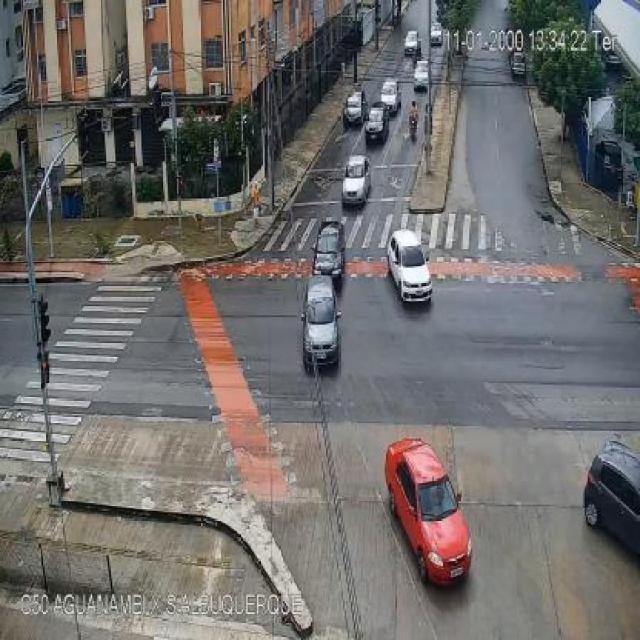Car: (379, 434, 471, 583), (570, 428, 639, 566), (295, 278, 345, 377), (378, 226, 436, 310), (332, 148, 373, 213), (310, 220, 349, 284), (362, 100, 394, 146), (340, 83, 371, 127), (376, 77, 404, 116), (406, 57, 436, 93), (397, 31, 423, 56), (428, 21, 444, 48)
Cycle: (402, 94, 428, 143)
